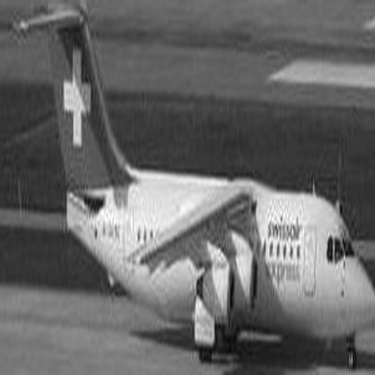airplane: (9, 4, 373, 370)
